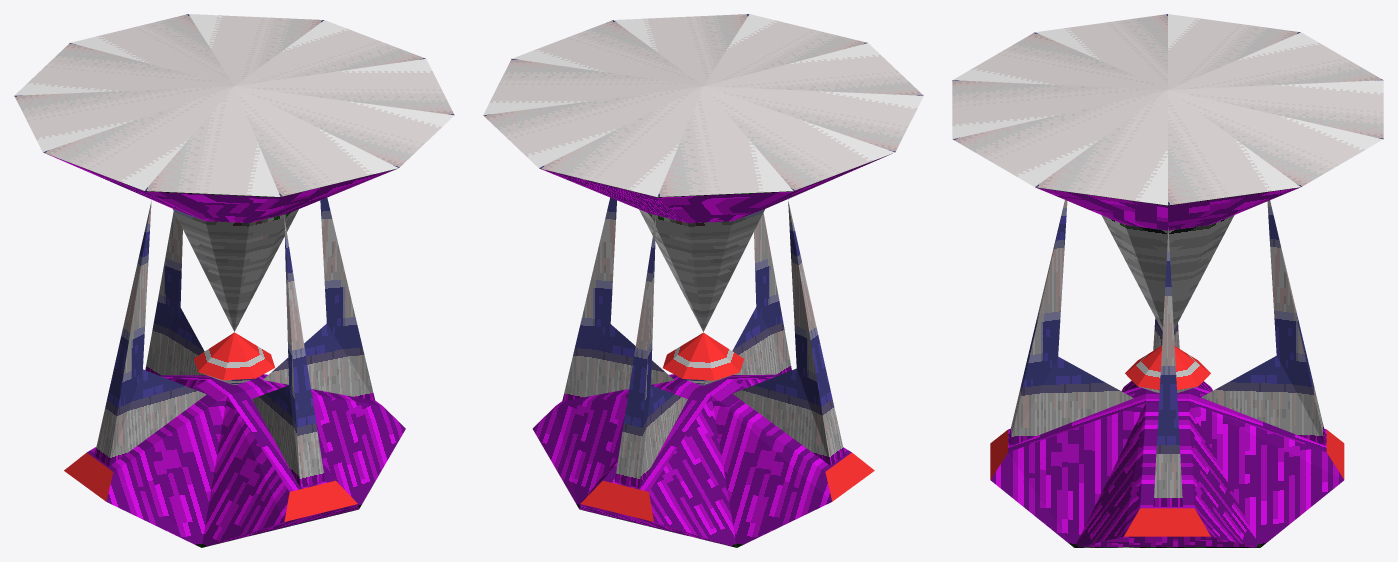
The model's file is model_007_building_reactor.glb.
3 renders of one model, left to right at view 1: azimuth 30°, elevation 25°; view 2: azimuth 150°, elevation 25°; view 3: azimuth 270°, elevation 25°, orthographic. The views are drawn at different scales.
Parts seen in each view (by area): view 1: model_101; view 2: model_101; view 3: model_101.
Part boxes in pixels (x1=…): model_101: x1=14, y1=14, x2=454, y2=547; model_101: x1=483, y1=14, x2=923, y2=547; model_101: x1=952, y1=14, x2=1383, y2=547.
Bounding box in the file's own units: 19.62 × 20 × 18.66.
Materials: 3 (3 with a texture image).
